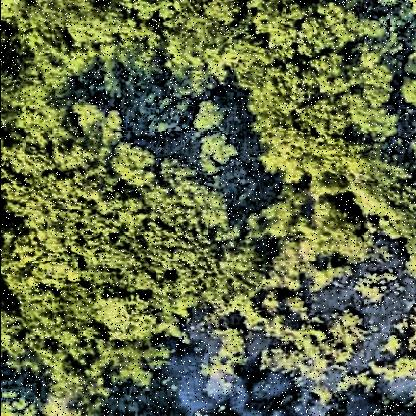tree-top: (248, 47, 396, 160), (103, 170, 229, 298), (162, 1, 241, 82), (7, 1, 128, 49), (191, 232, 265, 310), (303, 198, 373, 273), (94, 292, 162, 350), (190, 131, 240, 177), (190, 101, 228, 129)
